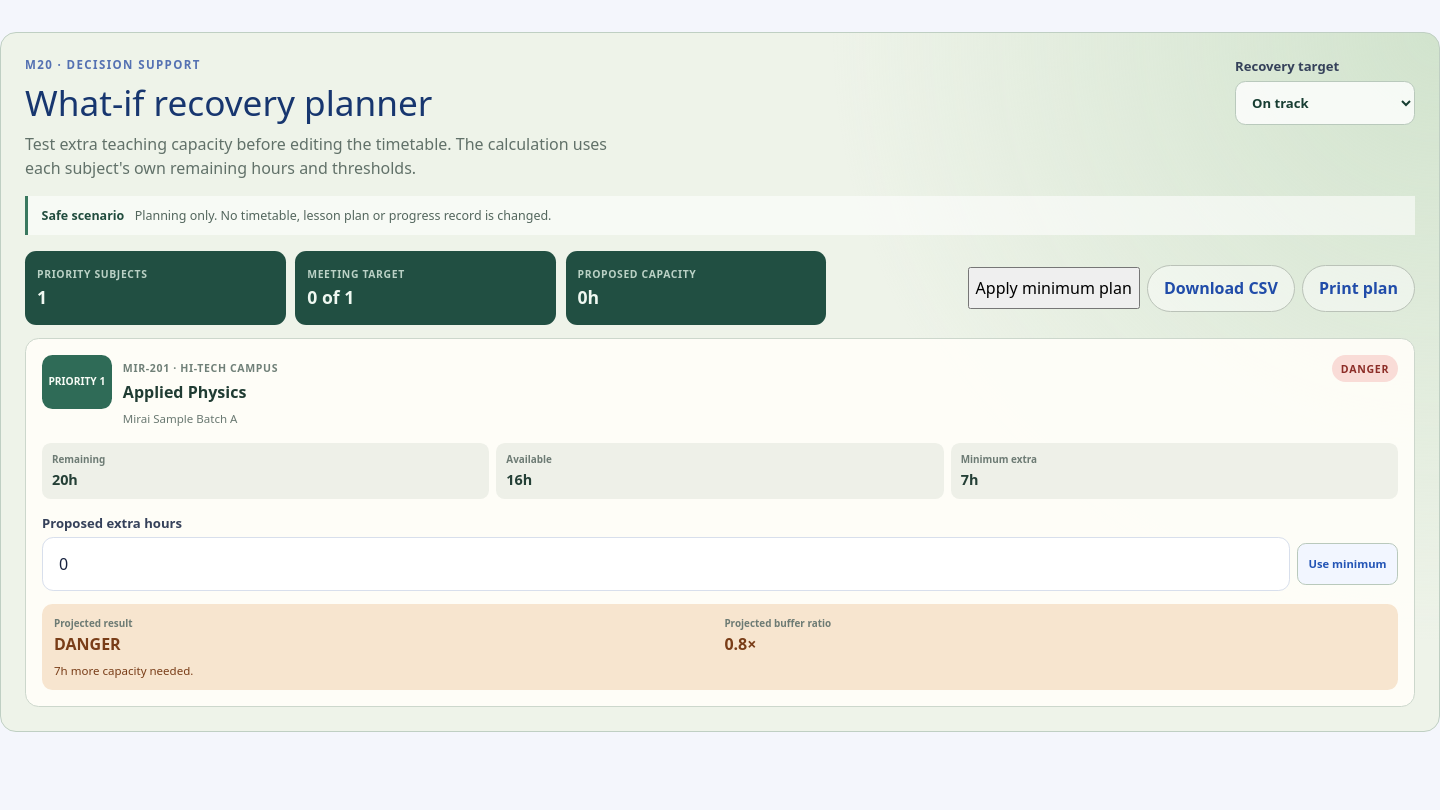
Test: M20 what-if recovery planner › applies the minimum plan and reports the projected result
This screenshot has width=1440, height=810.
What coordinates should you click on to do the following:
click the button "Apply minimum plan"
I would click on:
 (1054, 288)
Its box is [968, 267, 1140, 309].
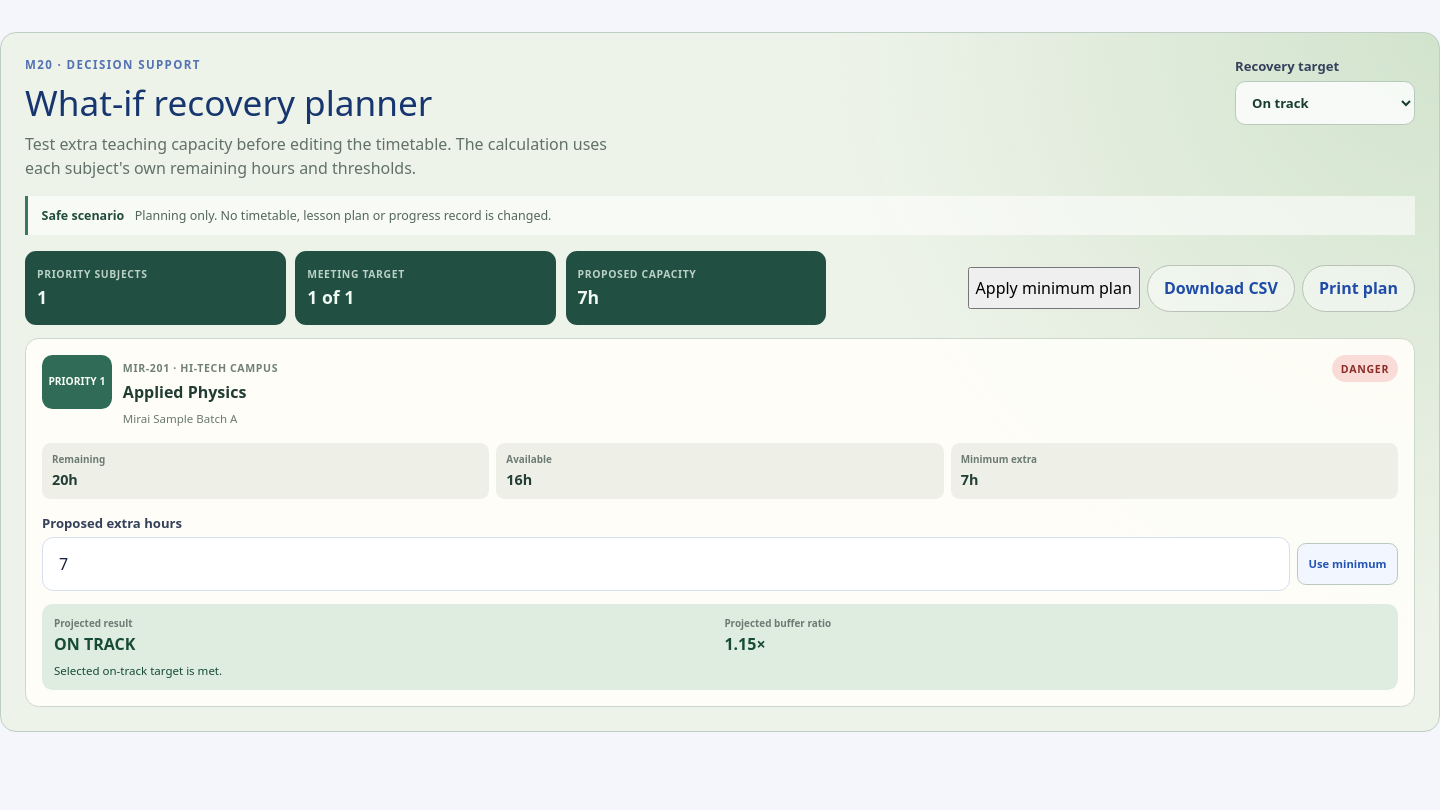
Check: the text "1 of 1" is shown, box [307, 285, 354, 309]
Check: the number field showing "7" is shown, box [42, 537, 1290, 591]
Check: the text "Selected on-track target is met." is shown, box [54, 663, 222, 678]
